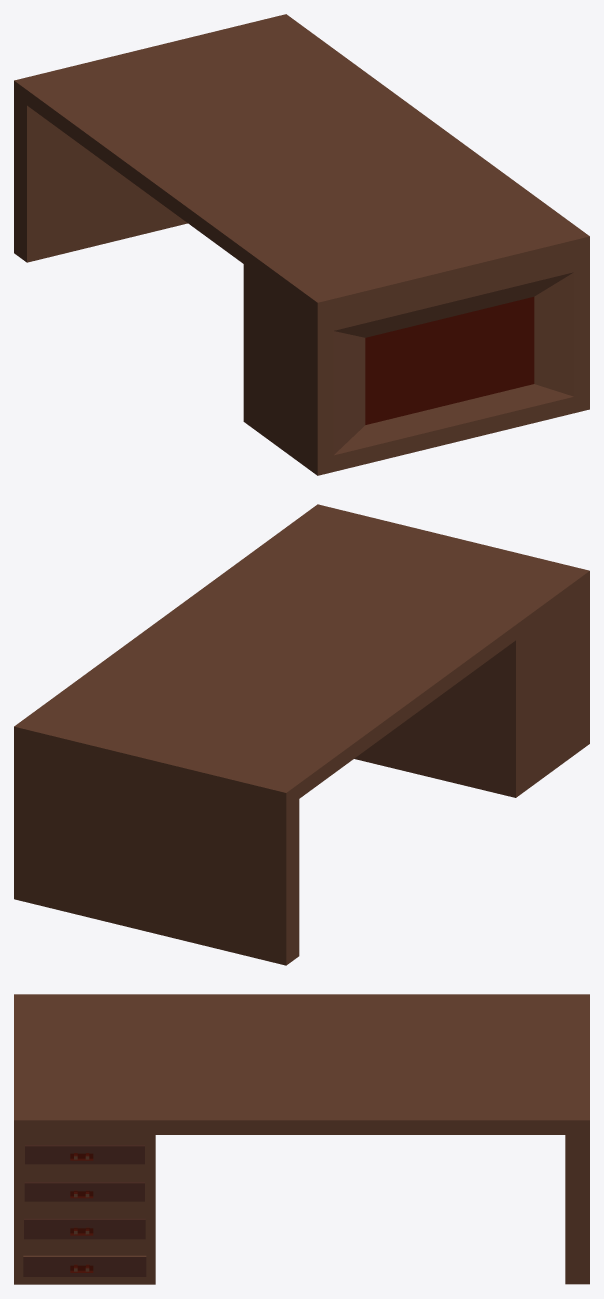
The model's file is table.glb.
The picture shows the model from 3 angles, top to bottom: view 1: azimuth 30°, elevation 25°; view 2: azimuth 150°, elevation 25°; view 3: azimuth 270°, elevation 25°; orthographic projection. The views are drawn at different scales.
Visible parts, largest first — view 1: Cube; view 2: Cube; view 3: Cube.
Boxes of the visible parts, x1,y1,x2,y2 form: Cube: (14, 14, 589, 475); Cube: (14, 504, 589, 965); Cube: (14, 994, 589, 1284).
Size of the model in its own units: 3.39 by 1.97 by 6.28.
